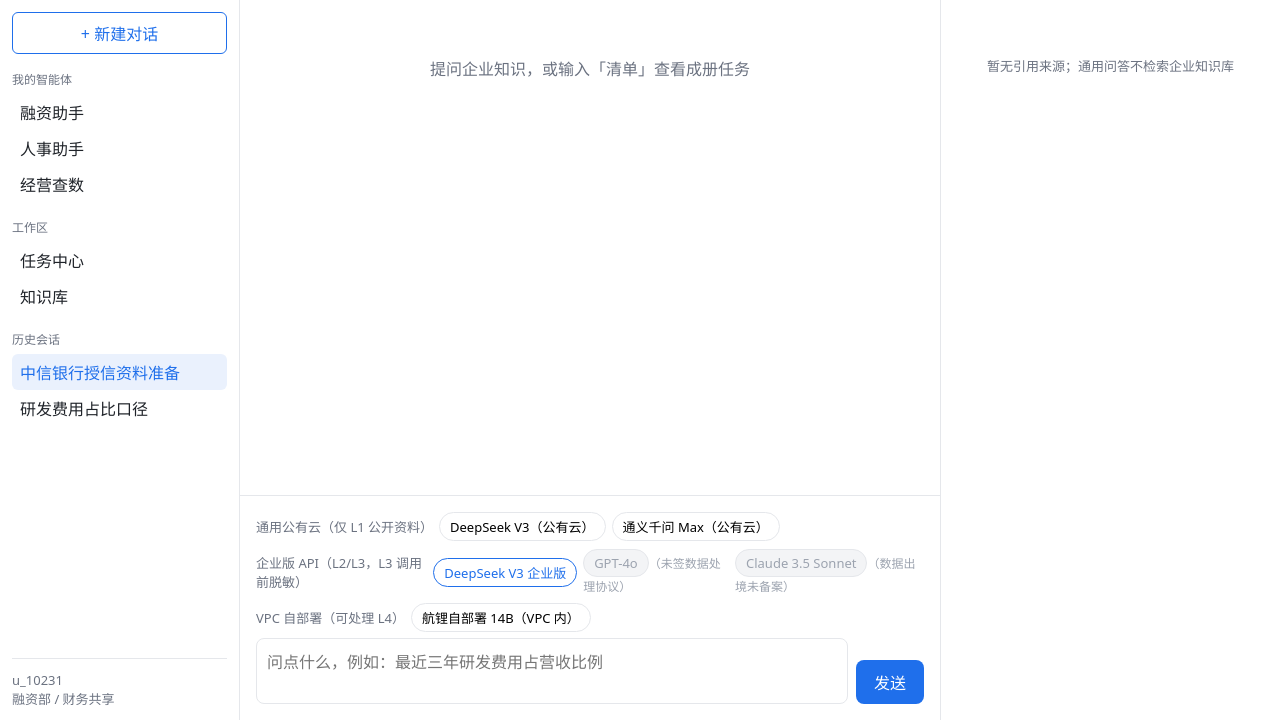
it: 库内未命中 › 网关返回 switched_reason 时显式提示切换通道
Type "公司食堂菜单" into the text box named "输入问题" at (552, 671), box top-left (256, 638), bottom-right (848, 704)
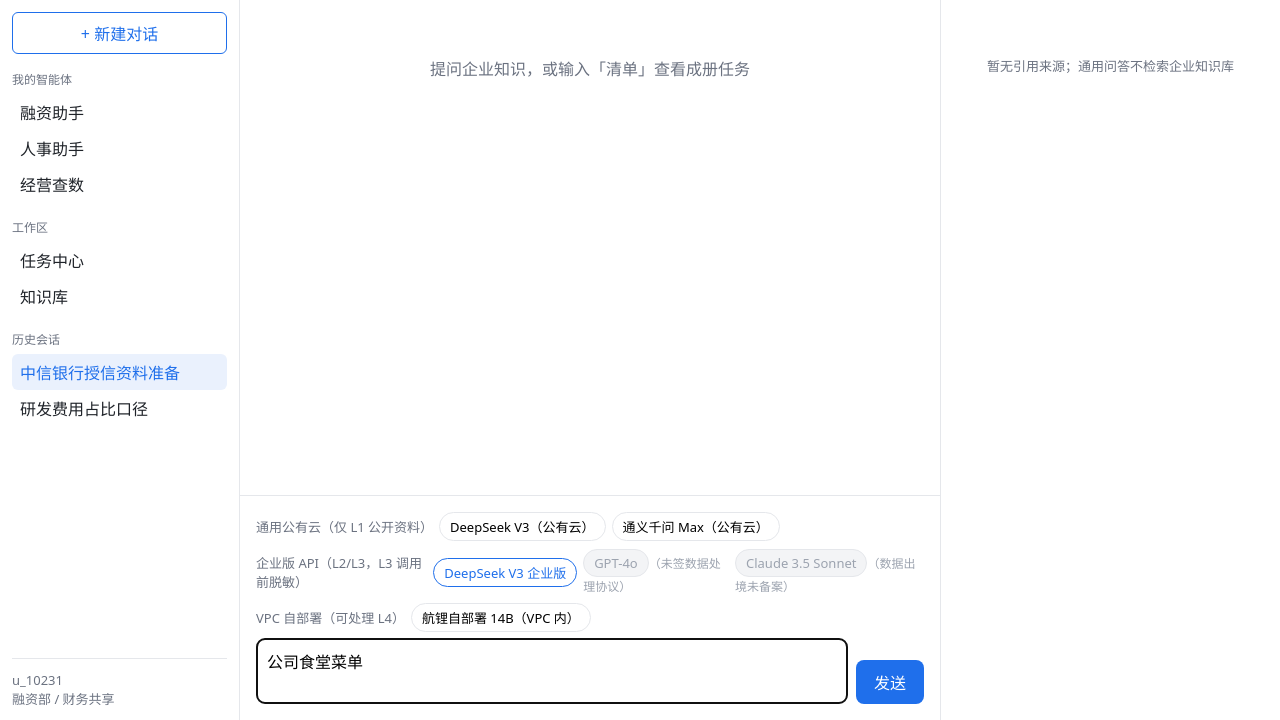
Click the button "发送" at (890, 682), box top-left (856, 660), bottom-right (924, 704)
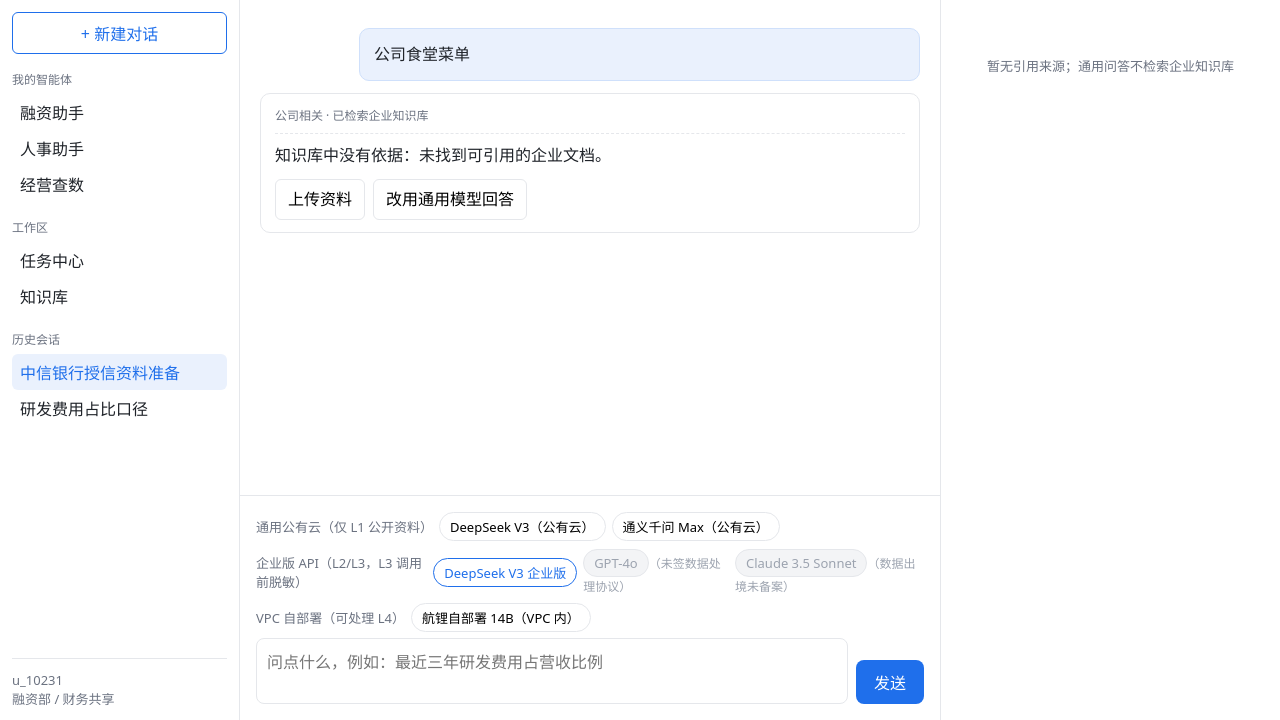
Click the button "改用通用模型回答" at (450, 199), box top-left (373, 179), bottom-right (527, 220)
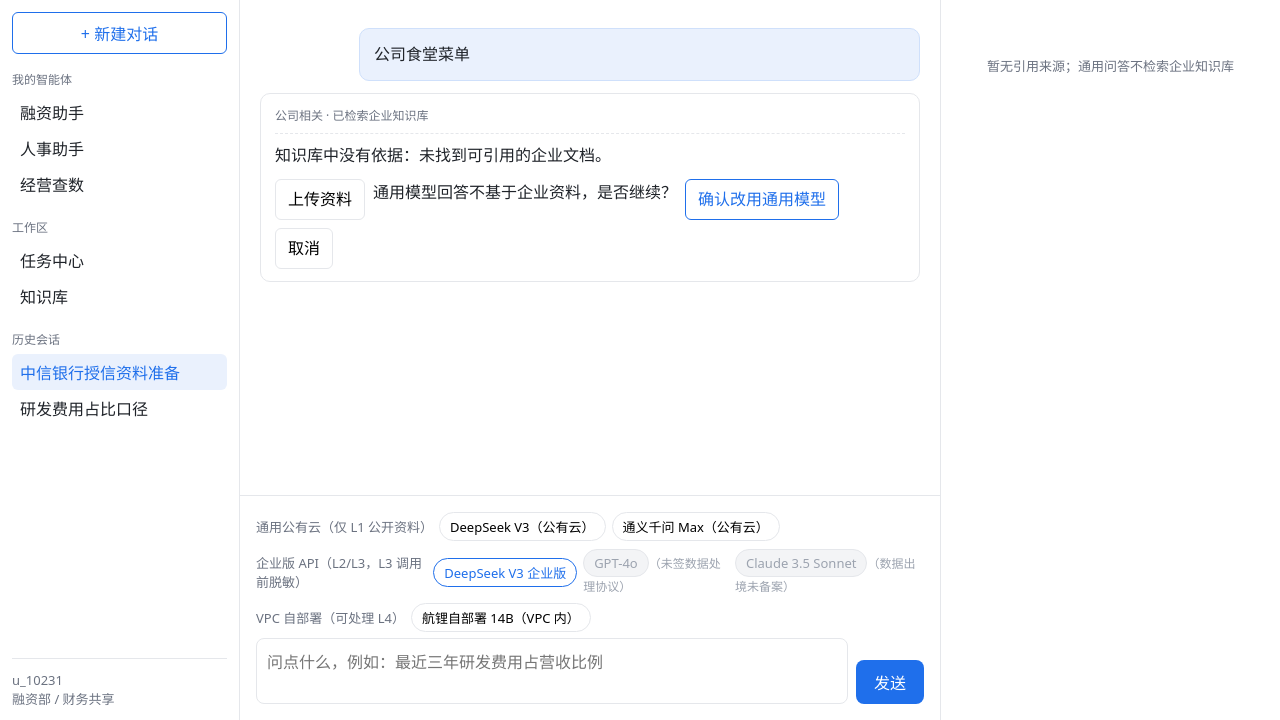
Click the button "确认改用通用模型" at (762, 199), box top-left (685, 179), bottom-right (839, 220)
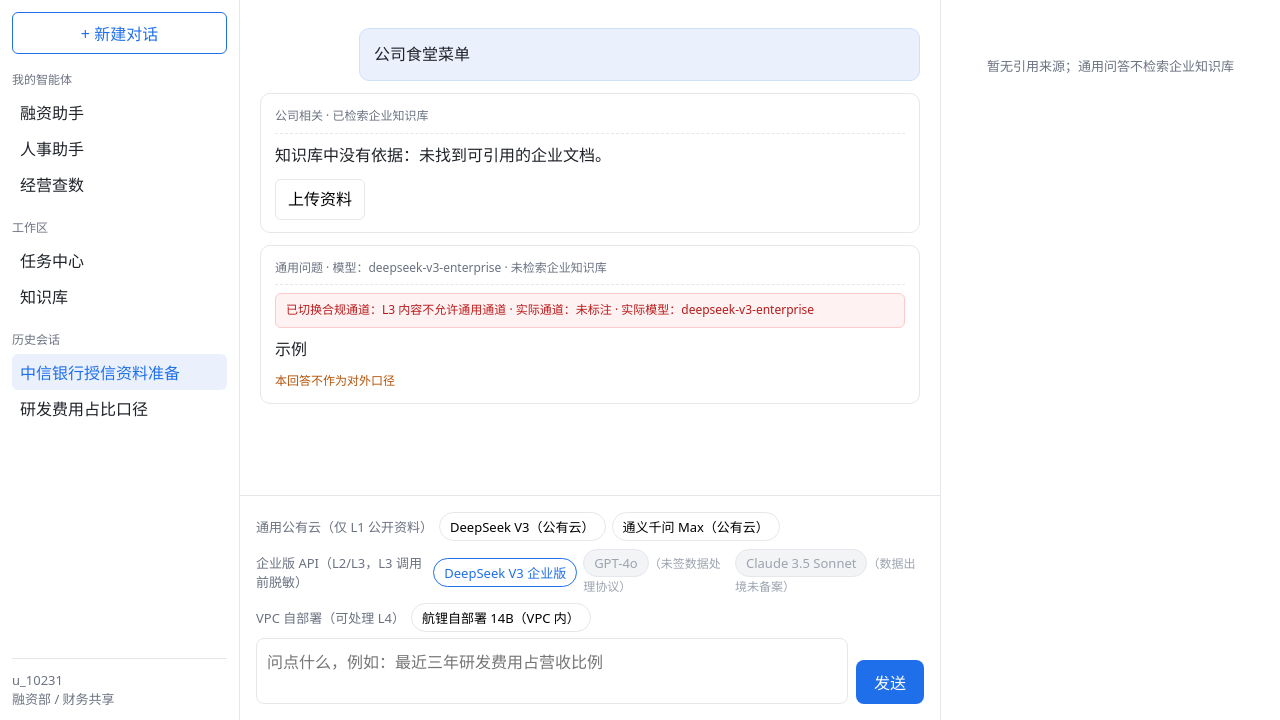
Expected: the message with test id "switched-notice" reads "已切换合规通道：L3 内容不允许通用通道 · 实际通道：未标注 · 实际模型：deepseek-v3-enterprise", top-left (275, 293), bottom-right (905, 328)
